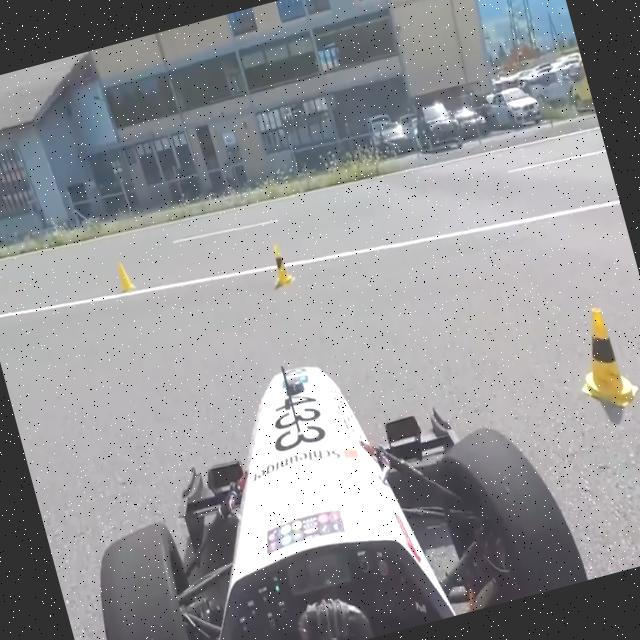yellow_cone: (562, 300, 640, 418), (264, 238, 296, 288), (114, 258, 136, 292)
